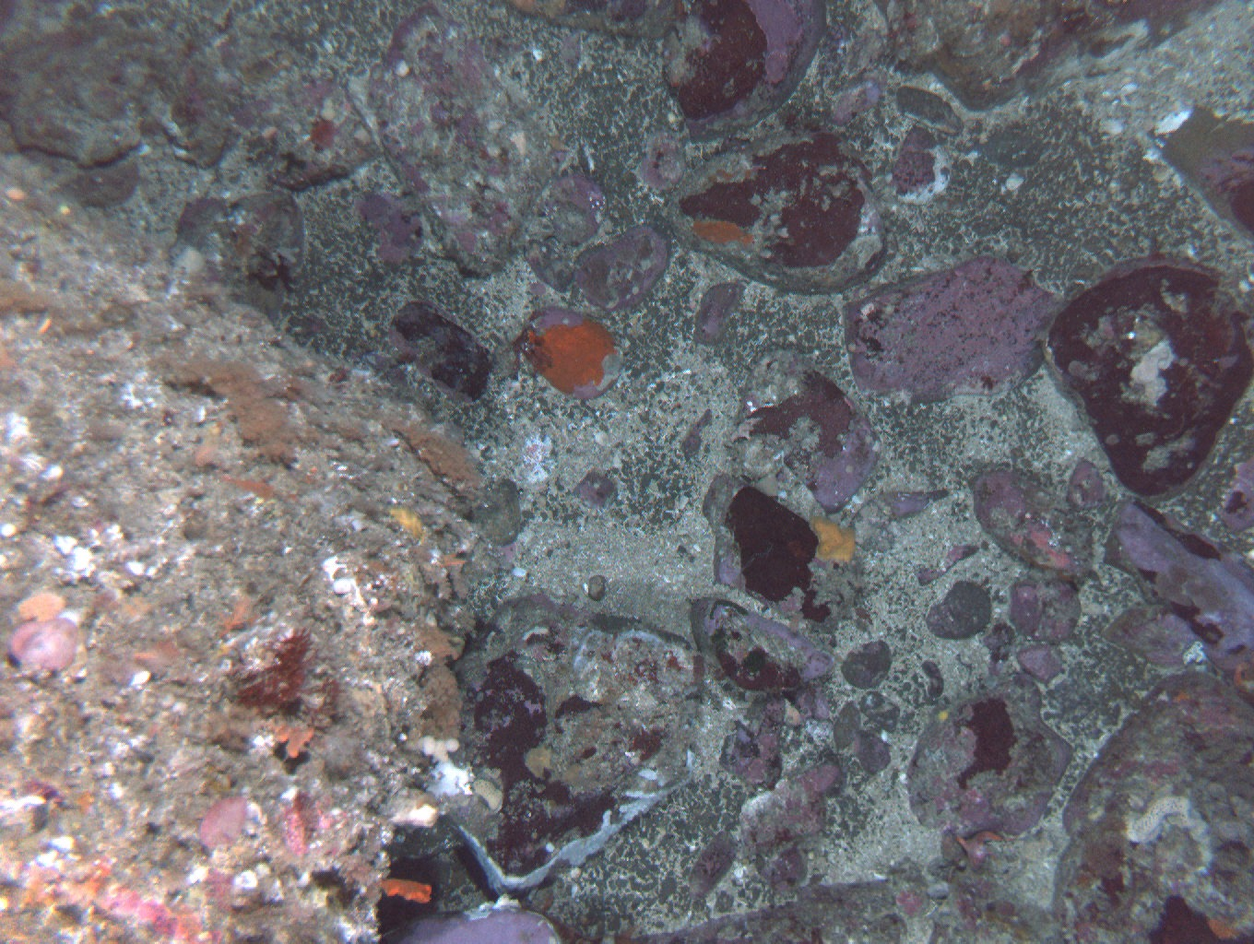Brachionichthyidae: (954, 830, 1018, 866)
